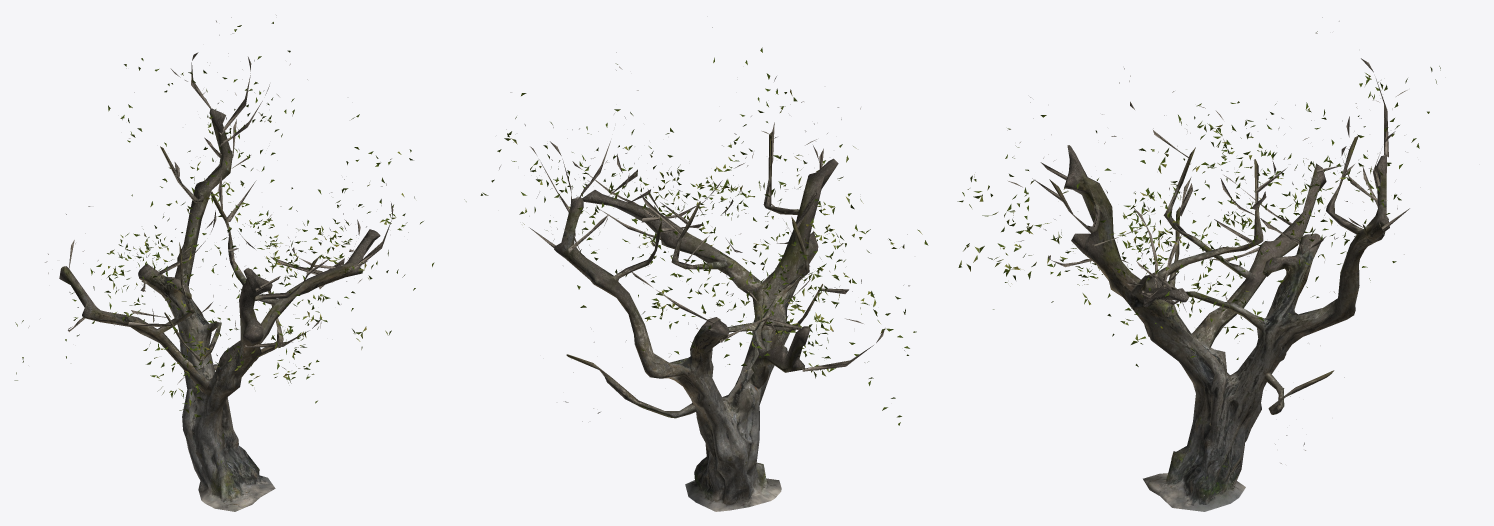
Rendered from broadleaf-island-01.glb.
3 views of the same model, side by side, from view 1: azimuth 30°, elevation 25°; view 2: azimuth 150°, elevation 25°; view 3: azimuth 270°, elevation 25° (orthographic). The views are drawn at different scales.
Parts seen in each view (by area): view 1: island_tree_01_LOD0; view 2: island_tree_01_LOD0; view 3: island_tree_01_LOD0.
Part boxes in pixels (x1=…): island_tree_01_LOD0: x1=14, y1=15, x2=434, y2=511; island_tree_01_LOD0: x1=464, y1=27, x2=928, y2=511; island_tree_01_LOD0: x1=957, y1=17, x2=1440, y2=511.
Size of the model in its own units: 4.63 by 4.89 by 4.56.
Materials: 3 (3 with a texture image).
